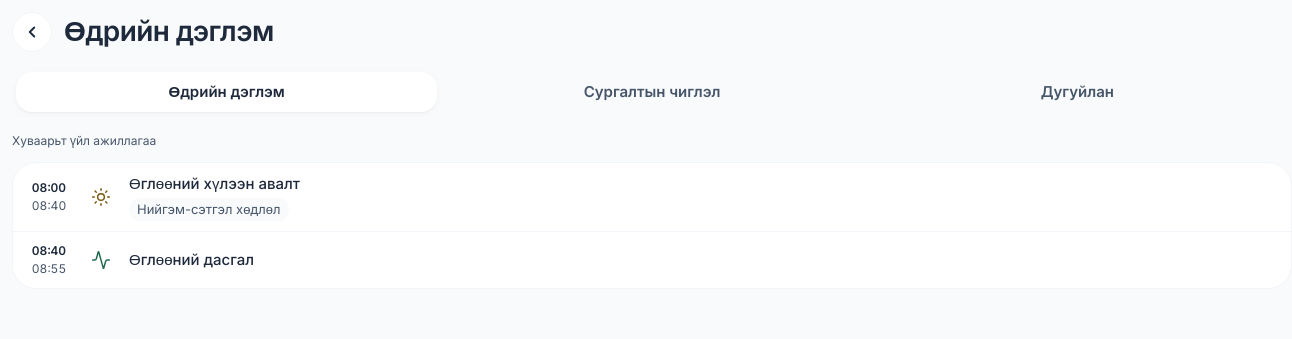
Test: a family's routine › opens a club to show its learning goal and detailed information
The image size is (1292, 339).
What coordinates should you click on to do the following:
click the tab "Дугуйлан"
I would click on:
 (1077, 92)
Its box is [867,72,1288,112].
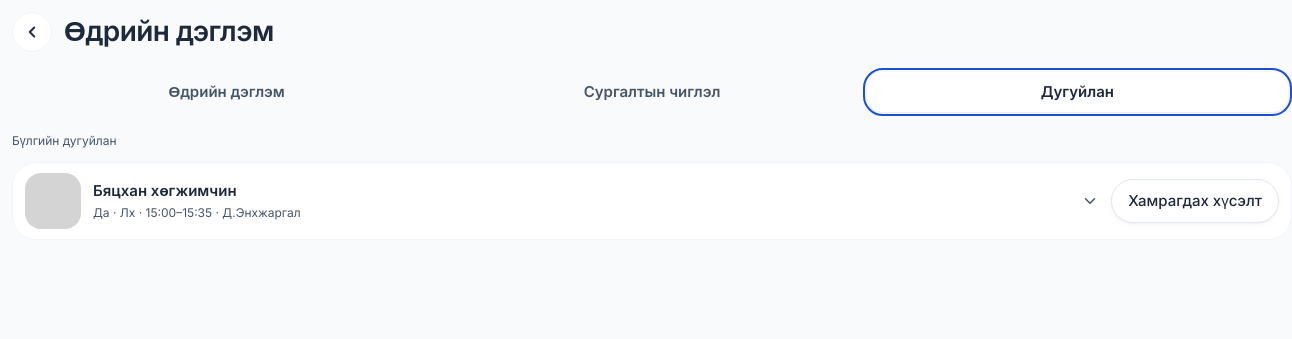
Expected: the text "Хэмнэл мэдэрч, хамтран дуулна." is not shown
What coordinates should you click on to do the following:
click the button "Бяцхан хөгжимчин Да · Лх · 15:00–15:35 · Д.Энхжаргал"
I would click on:
 (165, 190)
Its box is [93,180,1099,222].
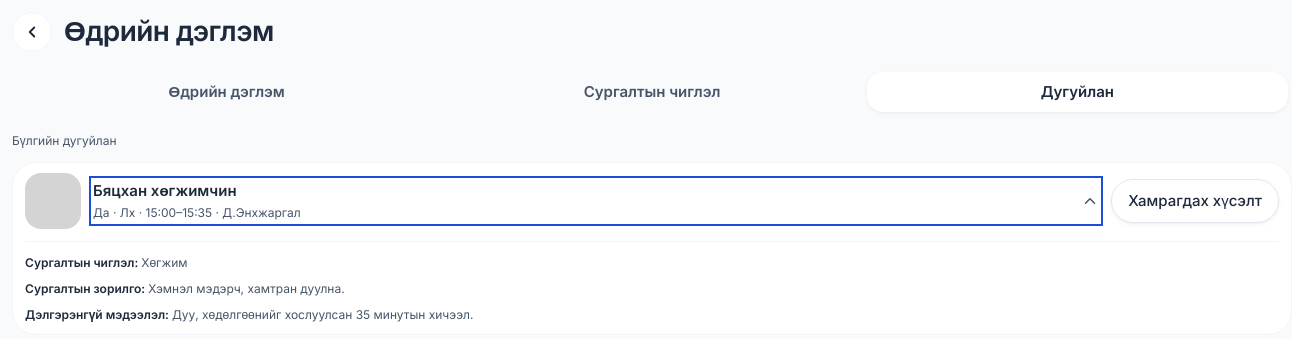
Result: the text "Хэмнэл мэдэрч, хамтран дуулна." is shown at [148,281,345,296]
Result: the text "Дуу, хөдөлгөөнийг хослуулсан 35 минутын хичээл." is shown at [172,307,473,322]
